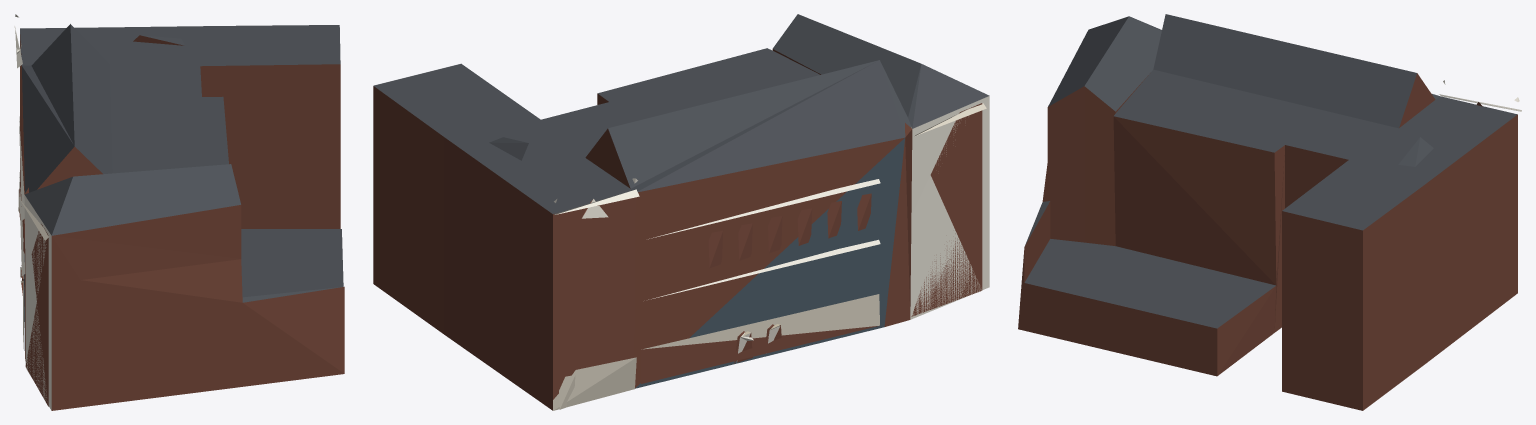
Rendered from coymanshuis.lod2.glb.
3 renders of one model, left to right at view 1: azimuth 30°, elevation 25°; view 2: azimuth 150°, elevation 25°; view 3: azimuth 270°, elevation 25°, orthographic. The views are drawn at different scales.
Visible parts, largest first — view 1: lod2; view 2: lod2; view 3: lod2.
Boxes of the visible parts, left/top/right/bottom form: lod2: left=14, top=14, right=344, bottom=410; lod2: left=373, top=14, right=989, bottom=410; lod2: left=1018, top=14, right=1521, bottom=410.
Size of the model in its own units: 44.31 by 21.91 by 45.39.
